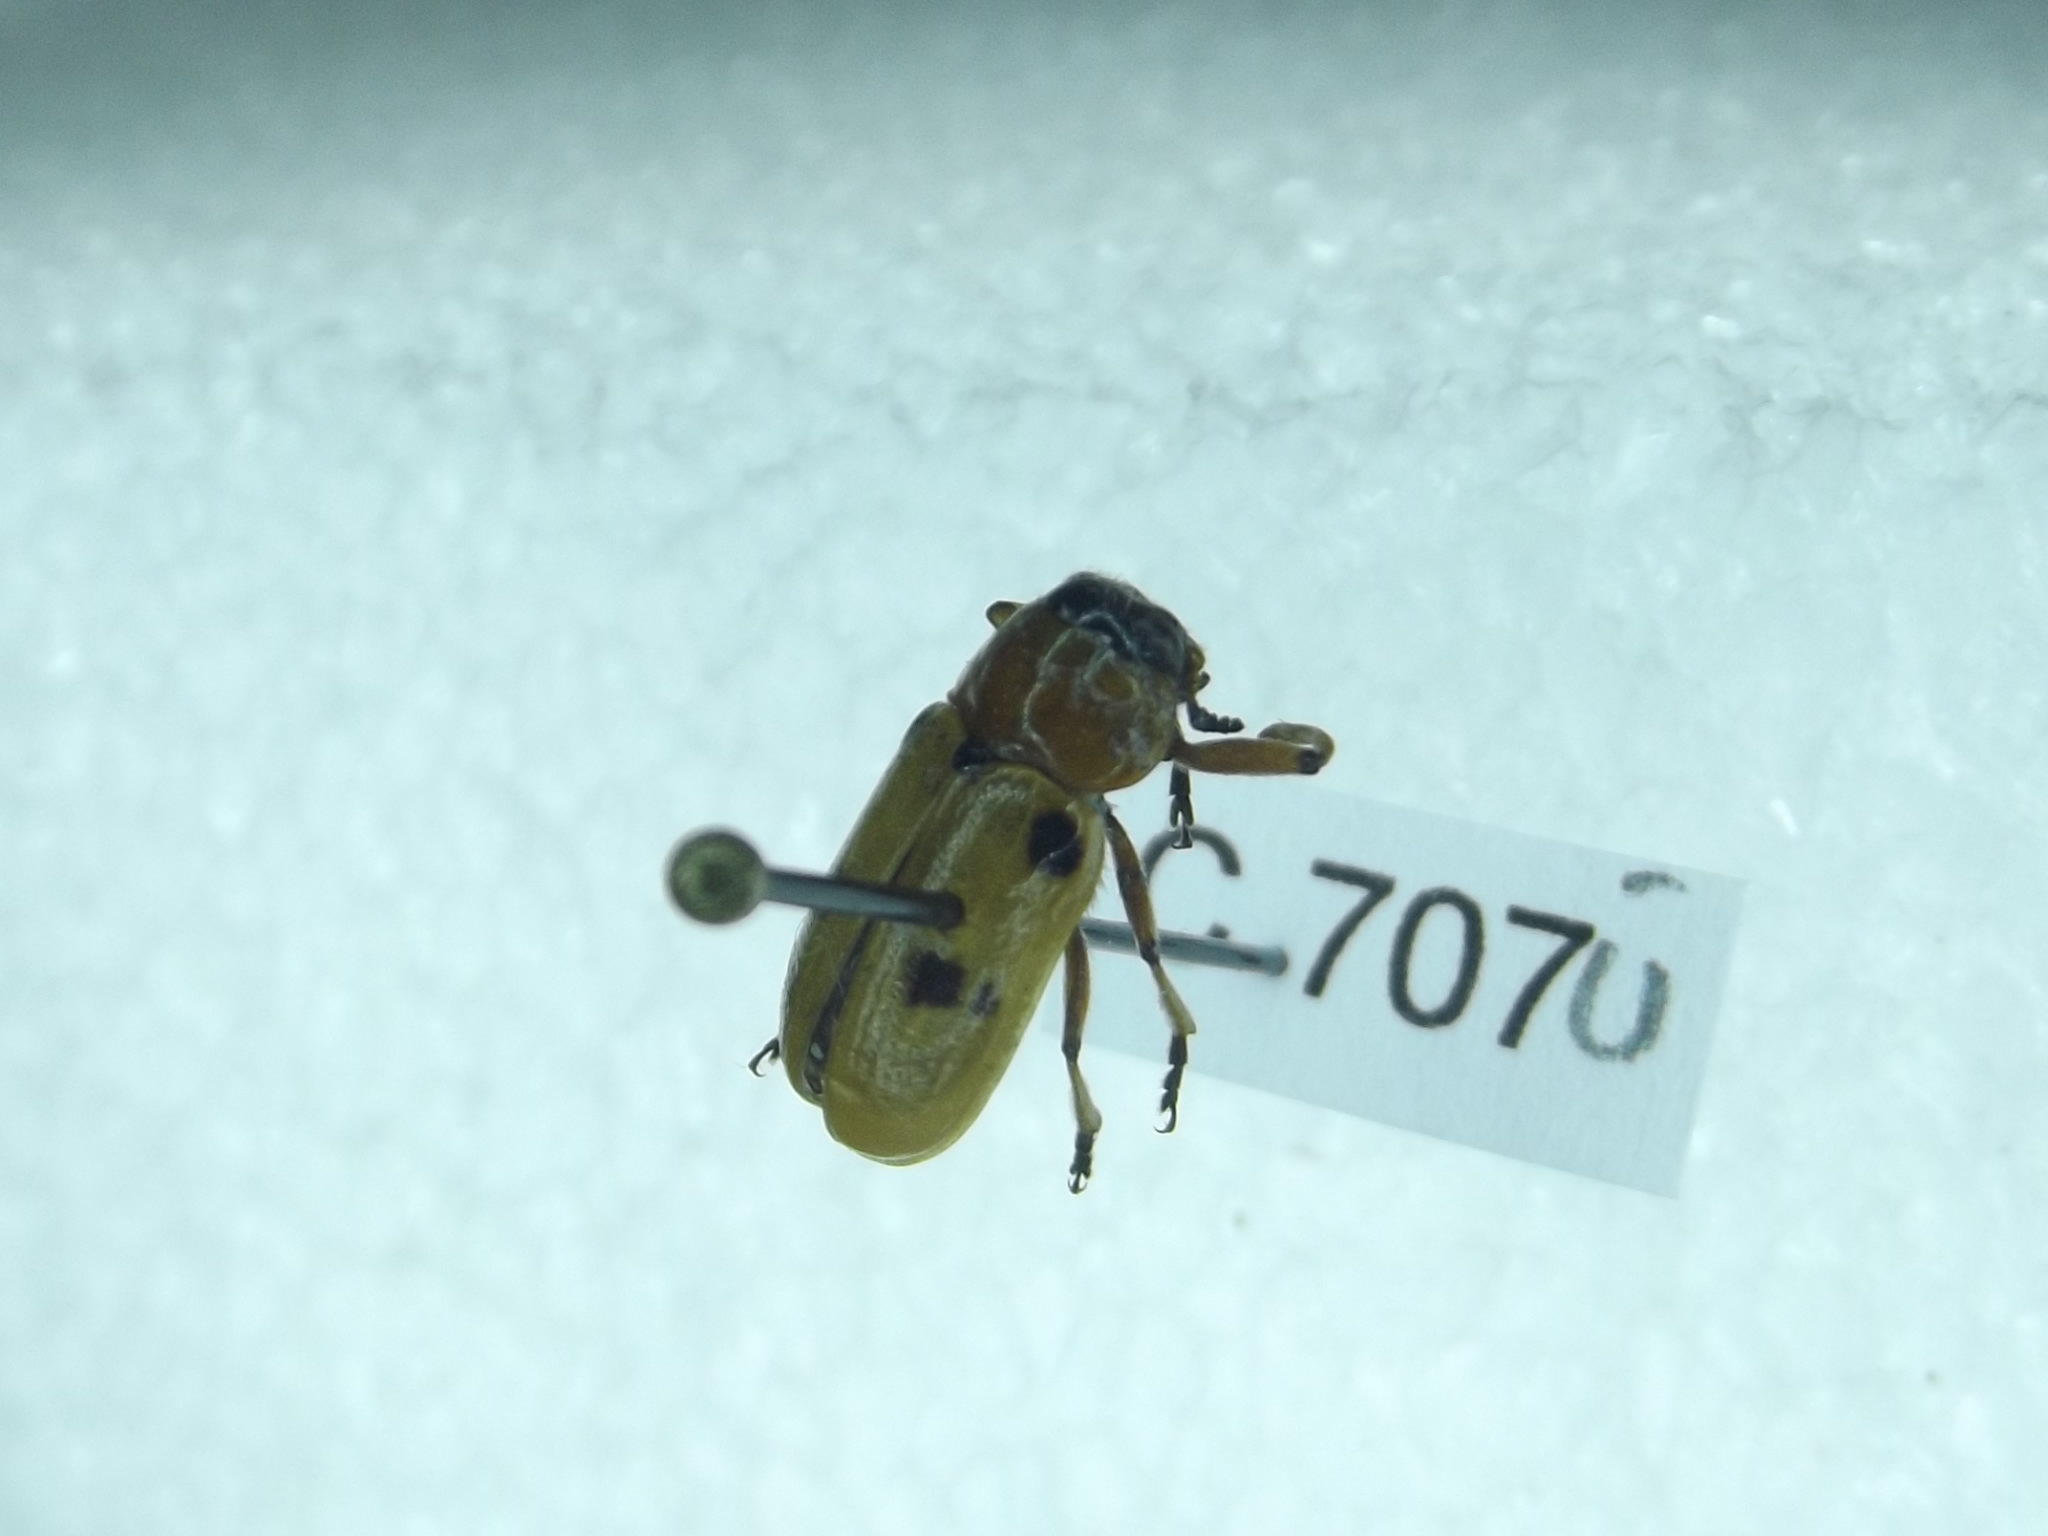Tituboea_macropus: (740, 565, 1345, 1204)
